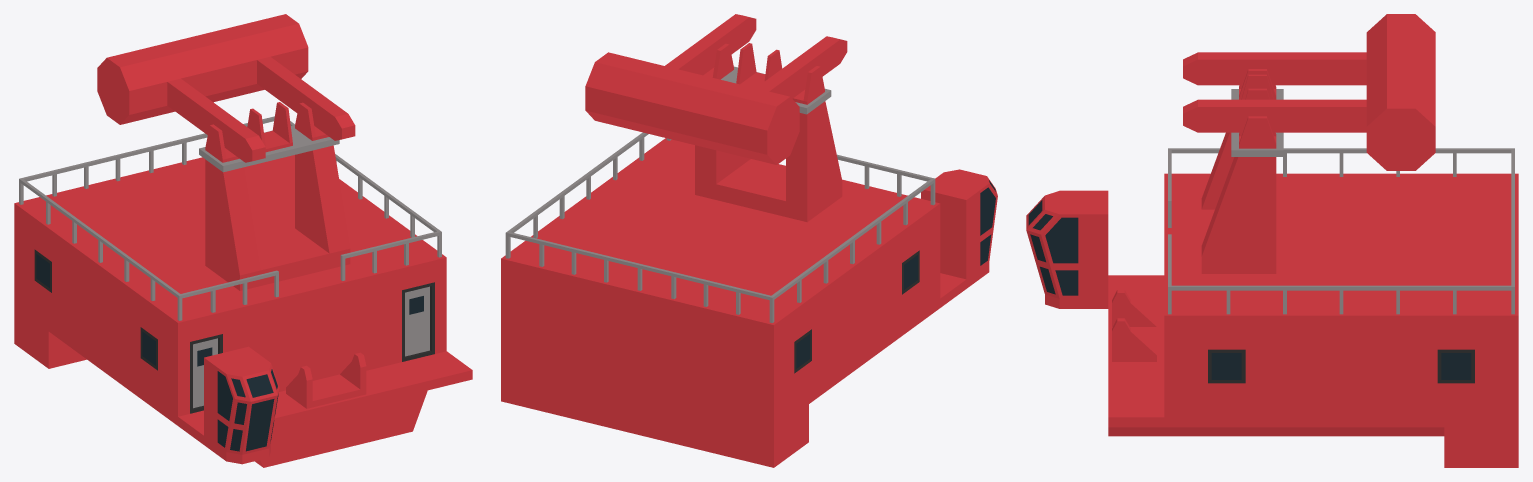
Rendered from crane-docks-top.glb.
The picture shows the model from 3 angles, left to right: view 1: azimuth 30°, elevation 25°; view 2: azimuth 150°, elevation 25°; view 3: azimuth 270°, elevation 25°; orthographic projection. The views are drawn at different scales.
Visible parts, largest first — view 1: crane-docks-top; view 2: crane-docks-top; view 3: crane-docks-top.
Boxes of the visible parts, x1,y1,x2,y2 form: crane-docks-top: (14, 14, 472, 467); crane-docks-top: (501, 14, 997, 467); crane-docks-top: (1026, 14, 1518, 467).
Size of the model in its own units: 9 by 9.92 by 13.2.
1 material, 1 textured.
